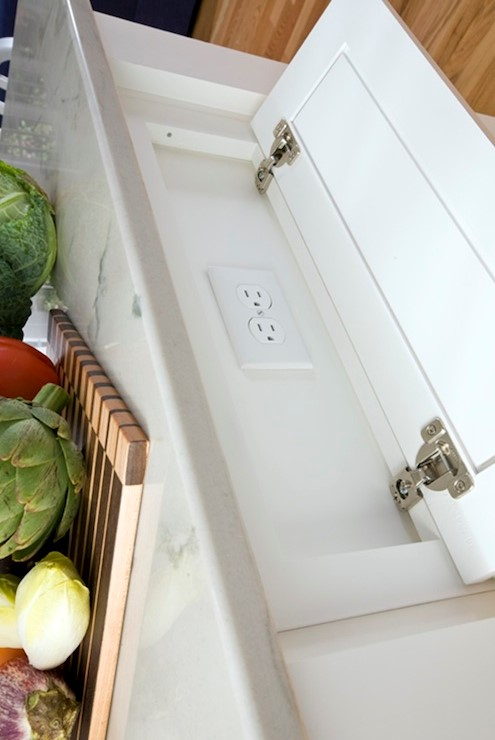outlet: (238, 283, 265, 309), (253, 320, 281, 344)
